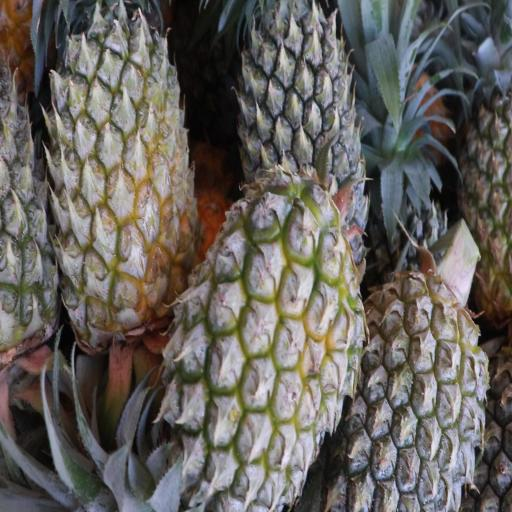------------------------------: (170, 182, 352, 500), (50, 0, 191, 340)
